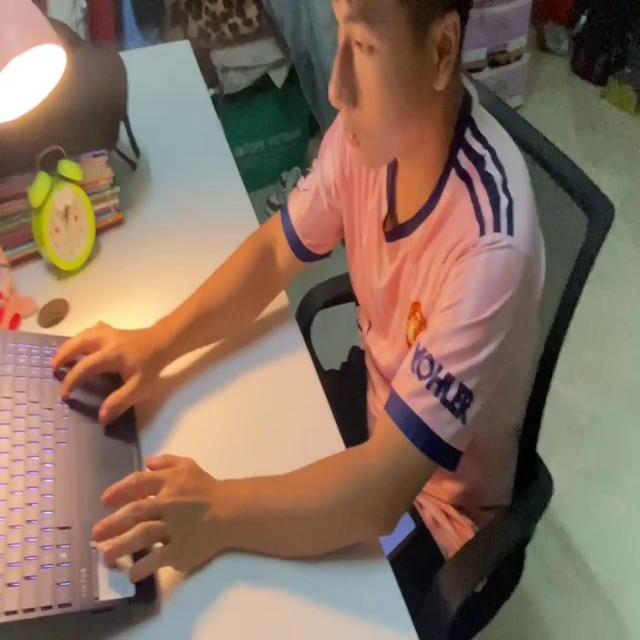laptop: (1, 322, 158, 620)
phone: (380, 506, 416, 554)
student: (50, 1, 549, 596)
